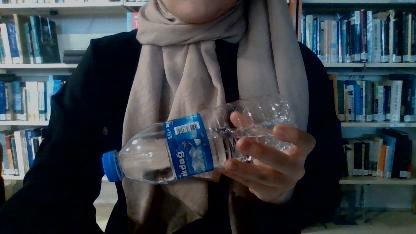Plastic Bottle: (91, 94, 297, 187)
